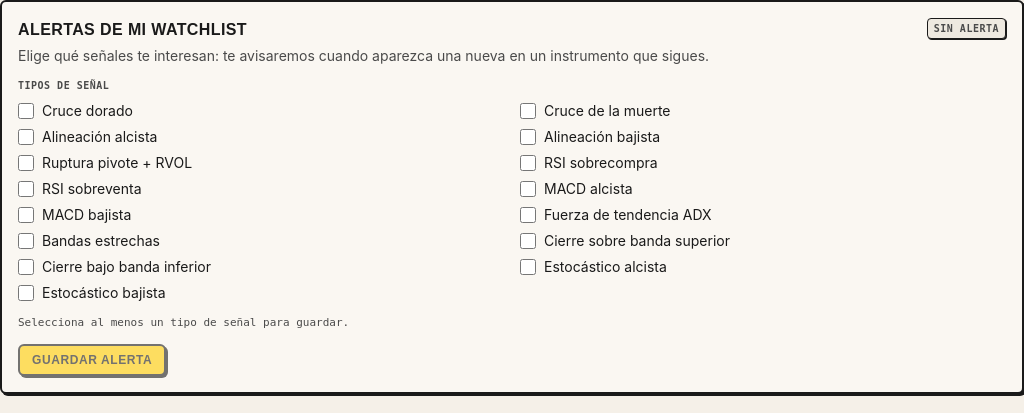
Test case: disables save until a Signal type is selected, then creates one alert with those types
The width and height of the screenshot is (1024, 413).
Expected: the button "Guardar alerta" is disabled, [18,344,166,376]
Expected: the text "Selecciona al menos un tipo de señal para guardar." is shown, [18,316,349,329]
Click the checkbox labelled "Ruptura pivote + RVOL": (26, 163) [18,155,34,171]
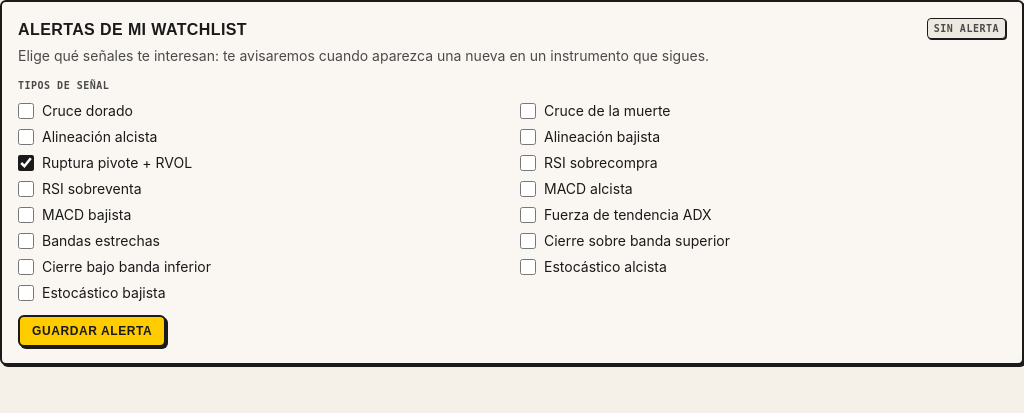
Click the checkbox labelled "Cruce dorado": (26, 111) [18,103,34,119]
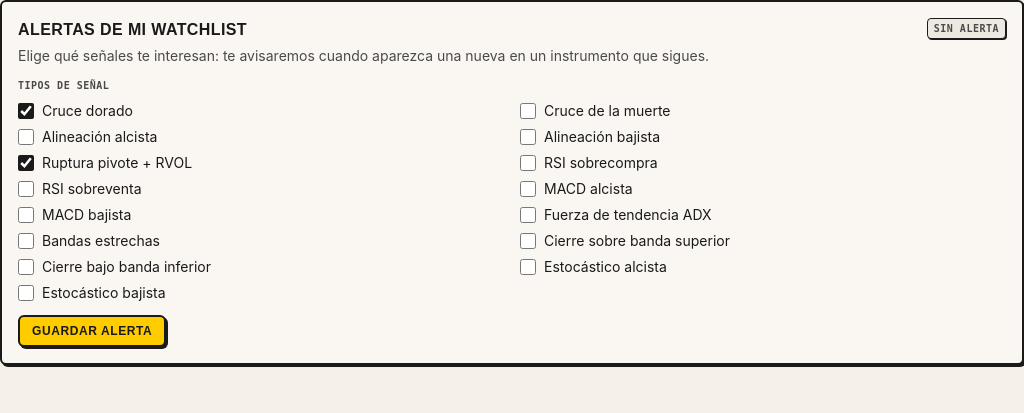
Expected: the button "Guardar alerta" is enabled
Click the button "Guardar alerta": (92, 331) [18,315,166,347]
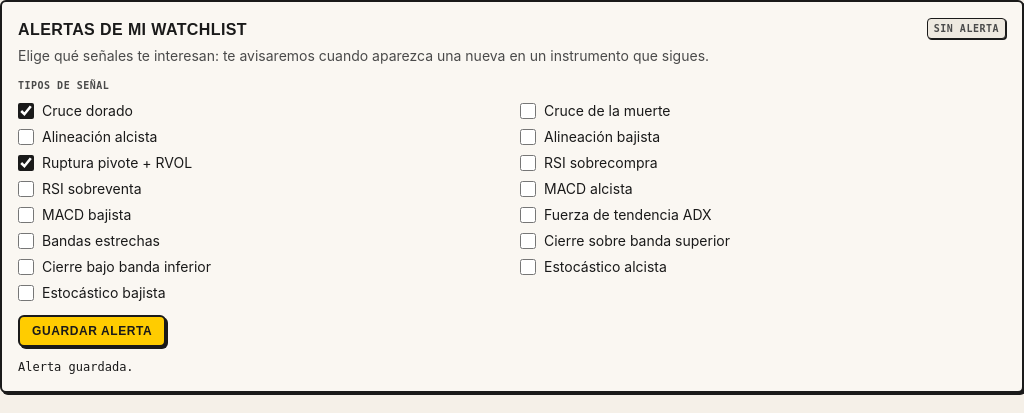
Expected: the message reads "Alerta guardada.", [18,360,134,374]
